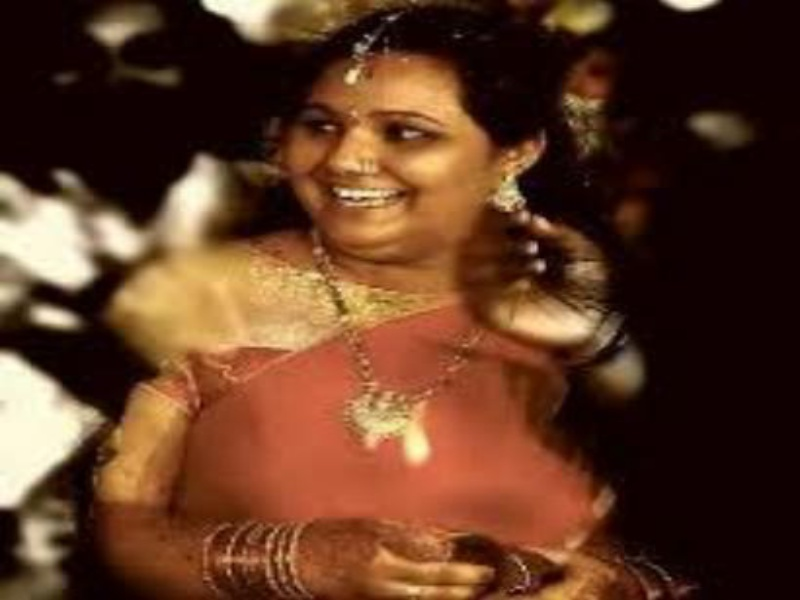TsisyArotava: (260, 14, 554, 288)
